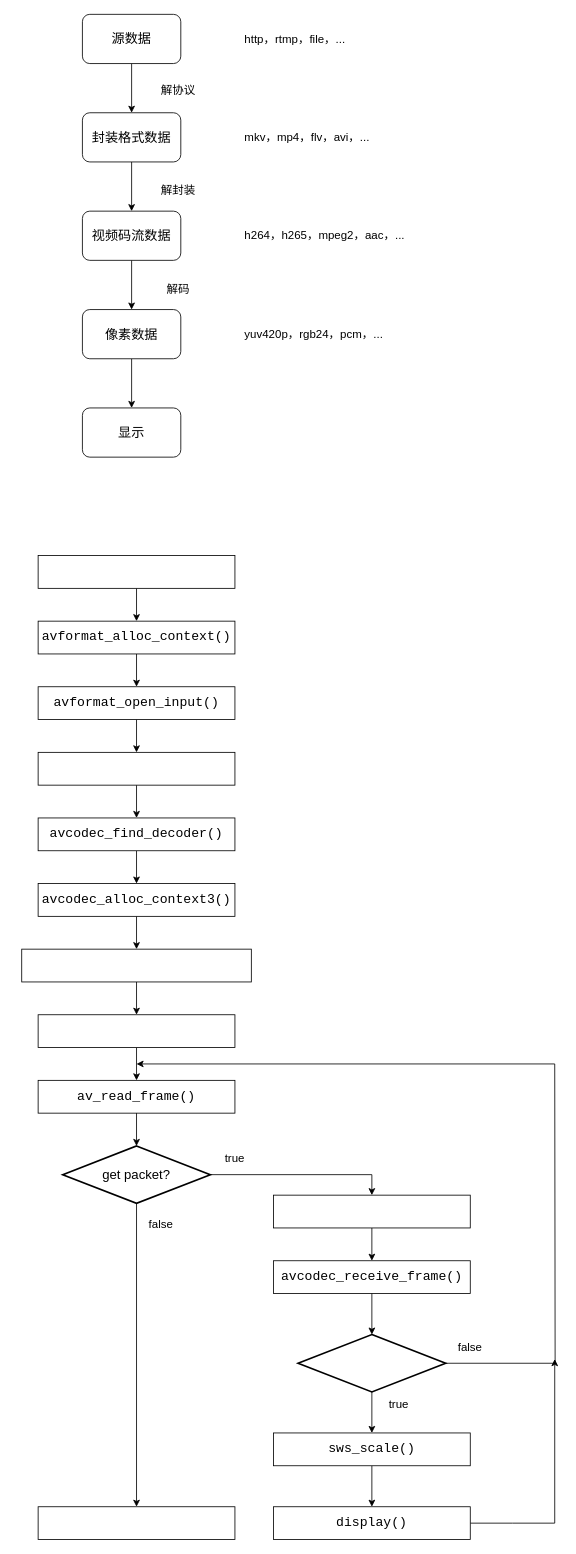
The diagram is 576 pixels wide and 1554 high, and some of its shapes have lost their labels. Here are the shapes that lost their labels. From the top down, the centre of each, then its label:
At (136,571): "avdevice_register_all()".
At (136,768): "avformat_find_stream_info()".
At (136,965): "avcodec_parameters_to_context()".
At (136,1031): "avcodec_open2()".
At (371,1211): "avcodec_send_packet()".
At (371,1362): "get frame?".
At (136,1523): "finish()".
